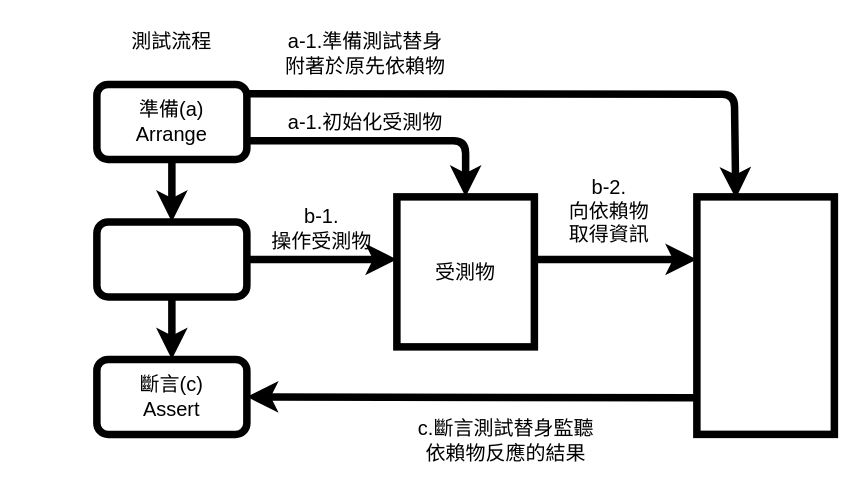
Image size: 859x485. Some labels were removed from this diagram. Each missing label, with the centre of its shape:
操作(b) Act: the point at 171,259
測試替身 Test Spy 附著於 依賴物上: the point at 765,315
